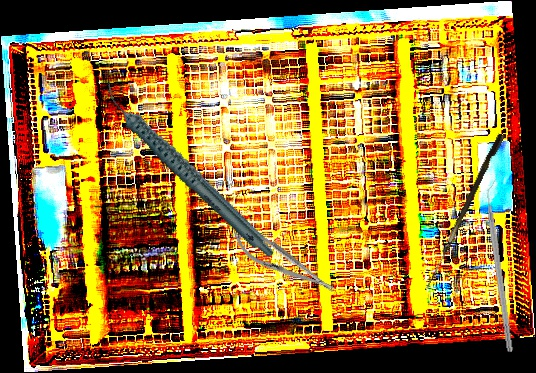Chopper: (482, 177, 523, 354)
Handpiece: (100, 54, 276, 286)
Hook Surgical: (426, 131, 505, 293)
Needle Holder: (227, 223, 341, 303)
